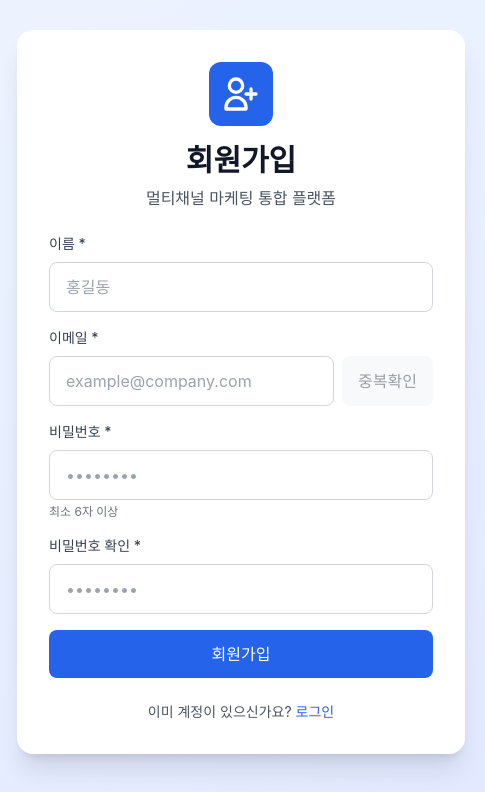
Test: RegisterPage › 4. 중복확인 클릭 → 사용 가능한 이메일 → CheckCircle(초록) 메시지 표시
Type "new@test.com" into the field labelled "이메일 *".
click(192, 381); type("new@test.com")  # box [49, 356, 334, 406]
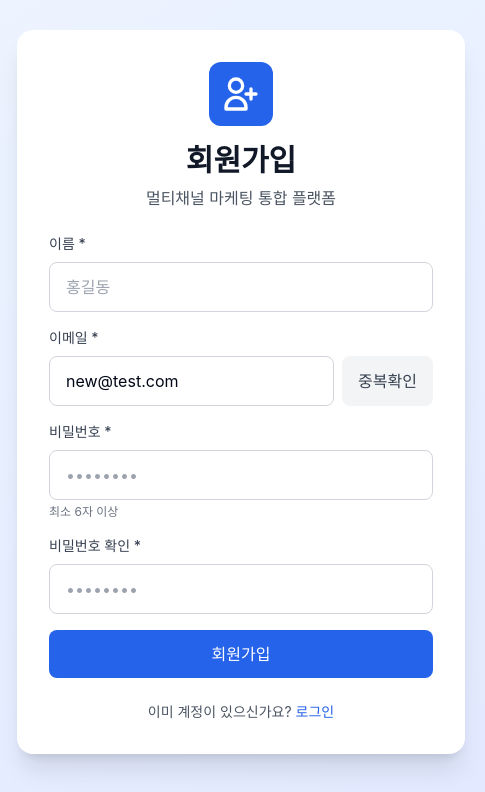
Click the button "중복확인".
click(388, 381)  # box [342, 356, 433, 406]
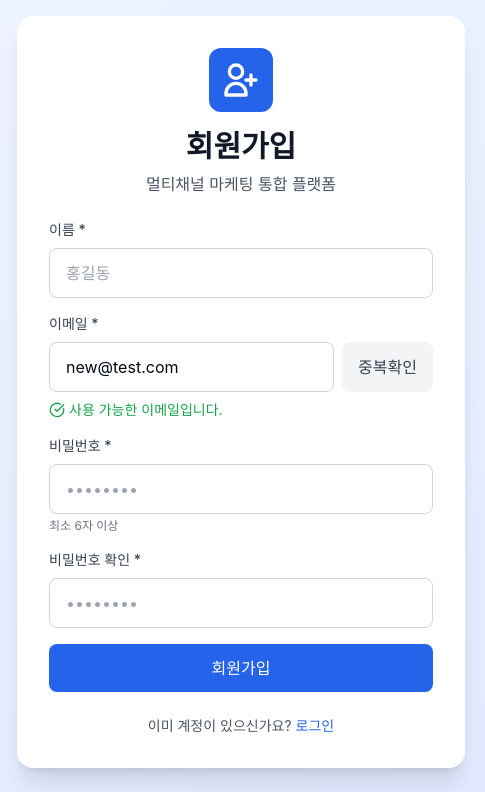
Now the text "사용 가능한 이메일입니다." is shown, box [69, 400, 223, 420]
